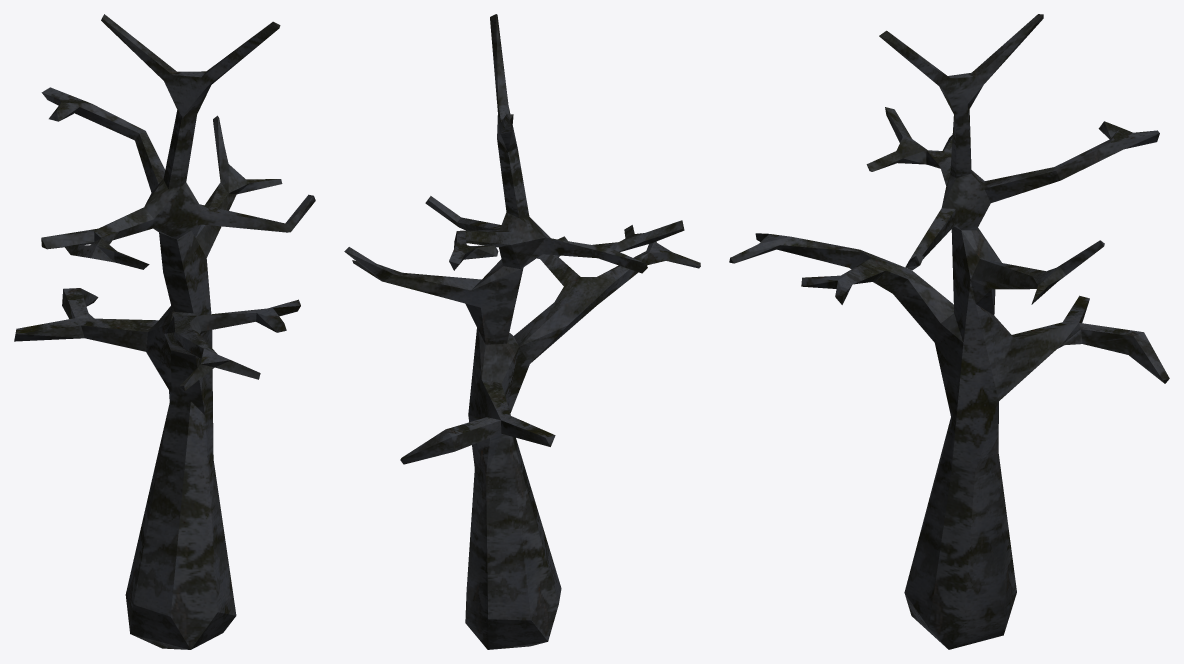
Rendered from Tree.fbx.
The picture shows the model from 3 angles, left to right: view 1: azimuth 30°, elevation 25°; view 2: azimuth 150°, elevation 25°; view 3: azimuth 270°, elevation 25°; orthographic projection. The views are drawn at different scales.
Visible parts, largest first — view 1: Vert.001; view 2: Vert.001; view 3: Vert.001.
Boxes of the visible parts, x1,y1,x2,y2 form: Vert.001: (14, 14, 315, 649); Vert.001: (344, 14, 700, 649); Vert.001: (729, 14, 1169, 649).
Size of the model in its own units: 210 by 447 by 281.
